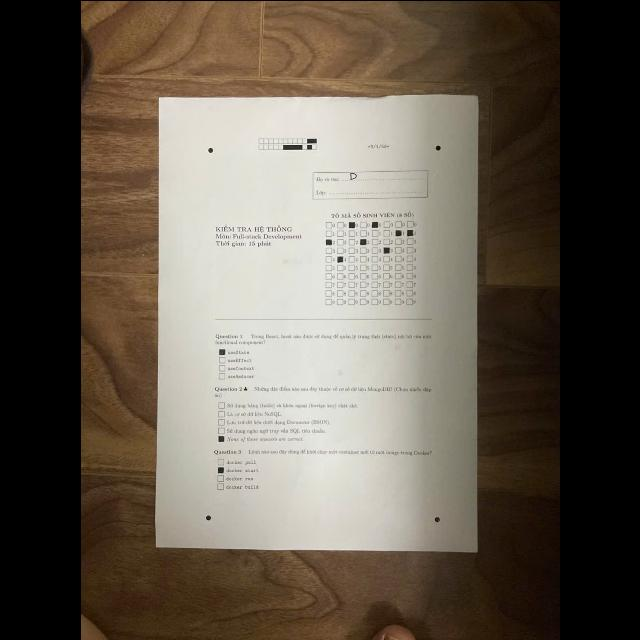Markers: (206, 146, 212, 152), (434, 144, 440, 150), (434, 517, 440, 523), (206, 515, 210, 521)
